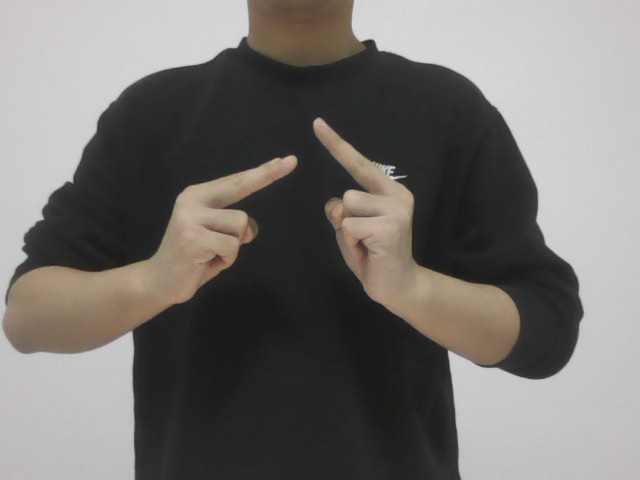know: (153, 116, 428, 330)
